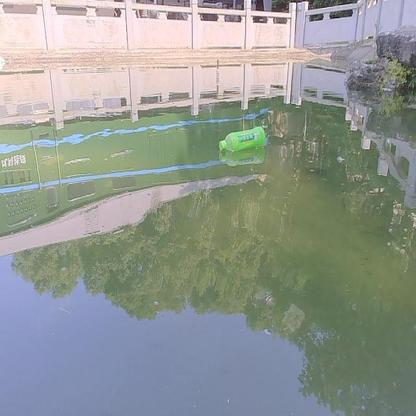plastic bottle: (218, 127, 267, 149)
